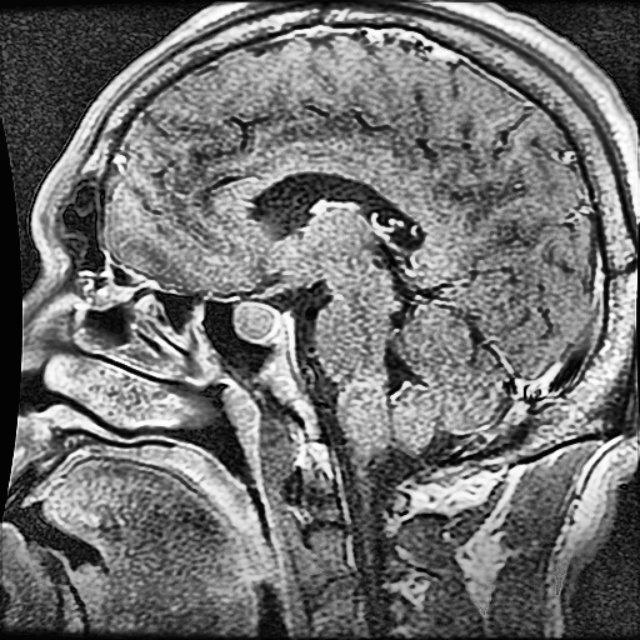Pituitary: (234, 303, 282, 342)
